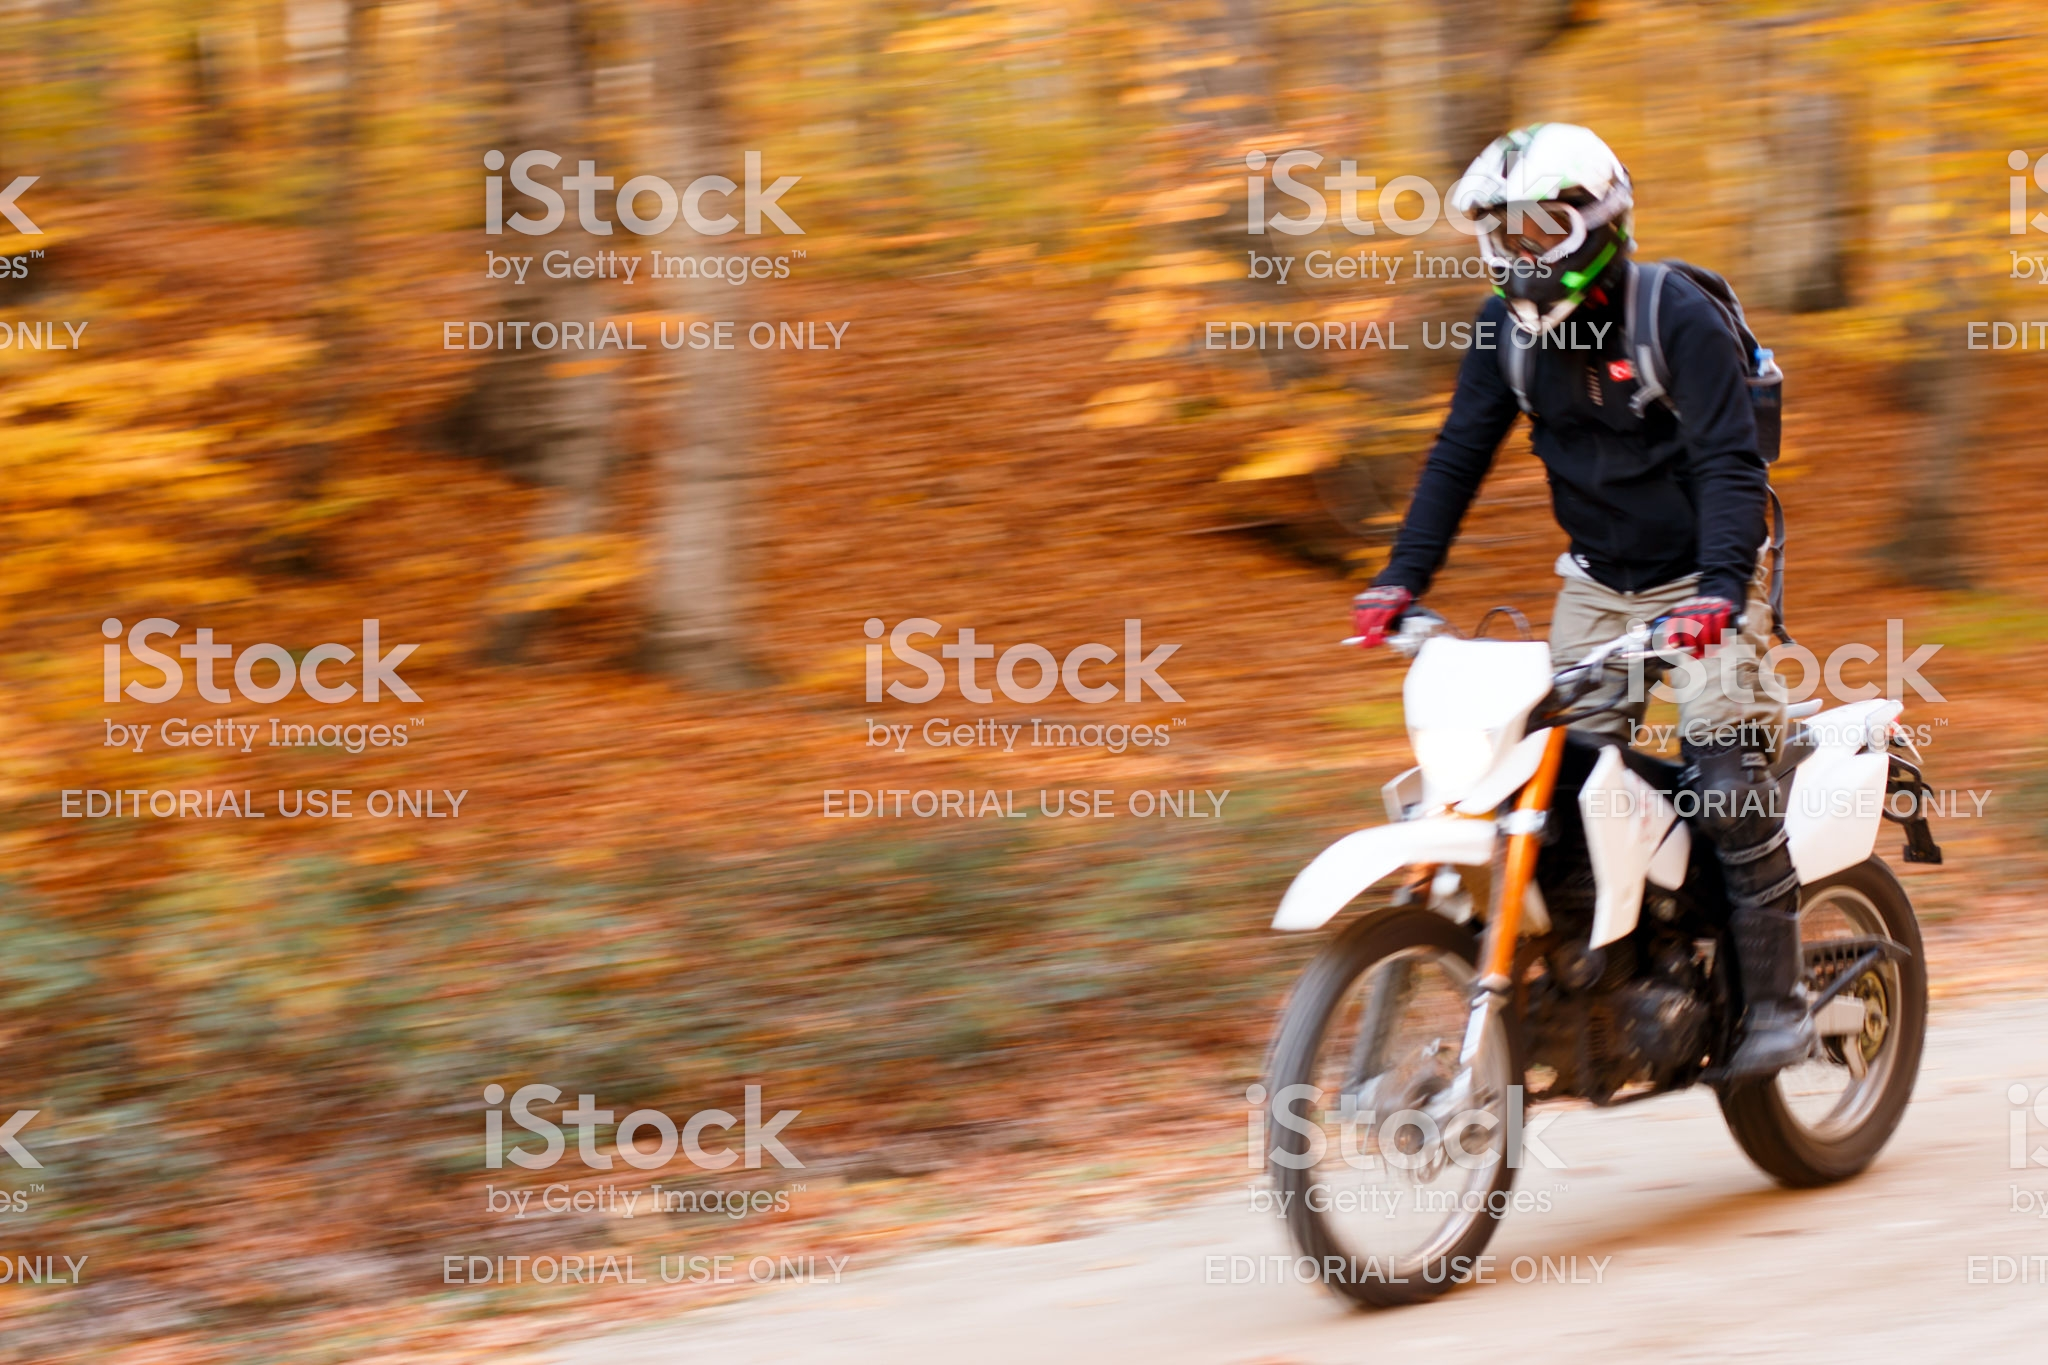helmet: (1453, 96, 1663, 375)
